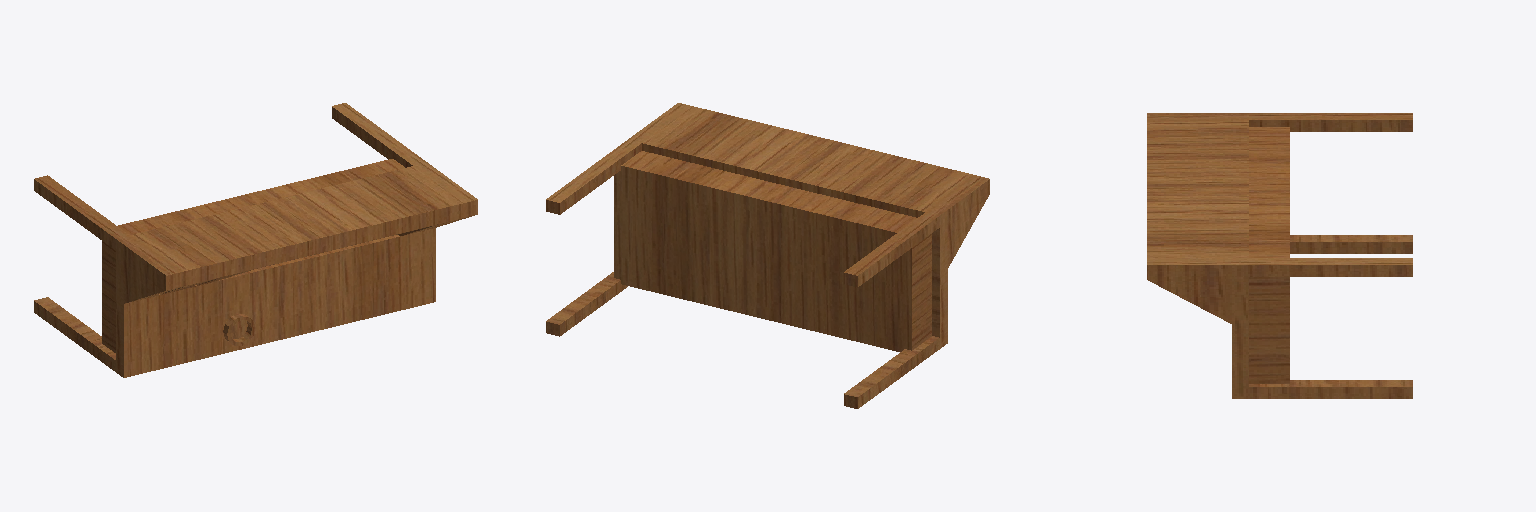
3 views of the same model, side by side, from view 1: azimuth 30°, elevation 25°; view 2: azimuth 150°, elevation 25°; view 3: azimuth 270°, elevation 25° (orthographic).
Visible parts, largest first — view 1: base_link_base_link.002; view 2: base_link_base_link.002; view 3: base_link_base_link.002.
Boxes of the visible parts, x1=… form: base_link_base_link.002: x1=34, y1=103, x2=477, y2=377; base_link_base_link.002: x1=546, y1=103, x2=989, y2=408; base_link_base_link.002: x1=1147, y1=113, x2=1412, y2=398.
Size of the model in its own units: 1.1 by 0.45 by 0.8098.
Materials: 1 (1 with a texture image).